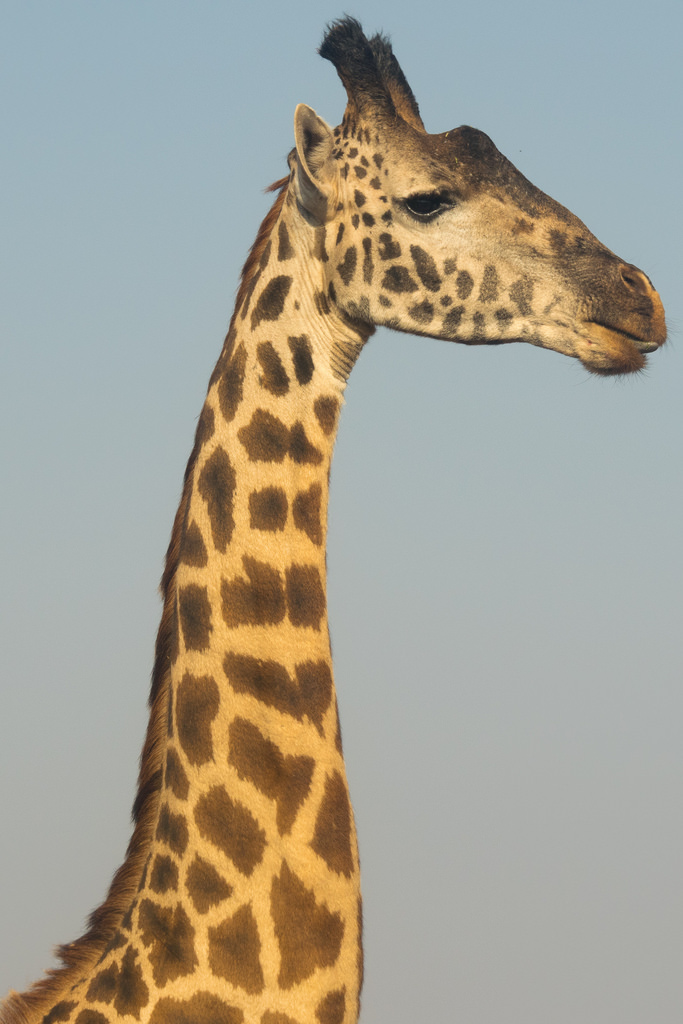giraffe: (97, 32, 666, 990)
